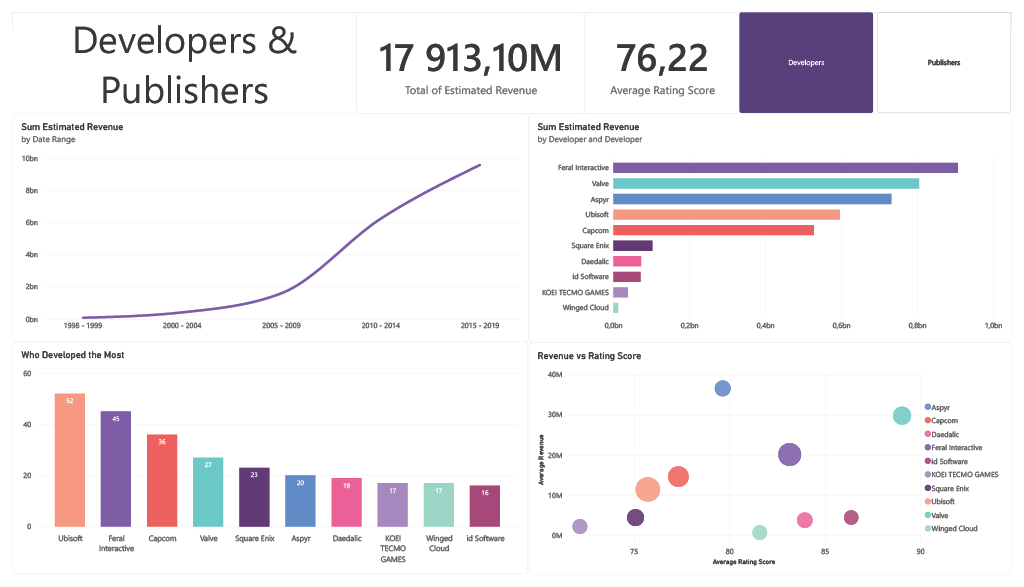

The dashboard page shown, as its layout file describes it:
{"tool":"powerbi","page":{"name":"Developers & Publishers","canvas":[1920,1080],"ordinal":2},"visuals":[{"type":"lineChart","fields":{"Category":["steam.date_range"],"Y":["Sum(steam.estimated_revenue)"]},"box":[0,194,992,440],"z":0},{"type":"textbox","box":[0,0,661.3,194],"z":1000},{"type":"barChart","fields":{"Category":["steam_developers.developer_name"],"Series":["steam_developers.developer_name"],"Y":["Sum(steam.estimated_revenue)"]},"box":[992.3,194,927.7,440],"z":1000,"group":"g1"},{"type":"columnChart","title":"Who Developed the Most","fields":{"Category":["steam_developers.developer_name"],"Series":["steam_developers.developer_name"],"Y":["CountNonNull(steam.appid)"]},"box":[0,632,991.4,447.1],"z":1000,"group":"g3"},{"type":"scatterChart","title":"Revenue vs Rating Score","fields":{"Series":["steam_developers.developer_name"],"Size":["CountNonNull(steam.appid)"],"X":["Avg(steam.rating_score)"],"Y":["Avg(steam.estimated_revenue)"]},"box":[991.5,632.4,928.7,447.3],"z":1000,"group":"g2"},{"type":"cardVisual","fields":{"Data":["Sum(steam.estimated_revenue)"]},"box":[661.4,0,438.6,194.3],"z":3000},{"type":"cardVisual","fields":{"Data":["Avg(steam.rating_score)"]},"box":[1100,0,297.1,194.3],"z":4000},{"type":"group","id":"g1","title":"Group 3","box":[992,194,928,440],"z":5000},{"type":"group","id":"g2","title":"Group 2","box":[991.5,631.5,928.5,448.5],"z":6000},{"type":"group","id":"g3","title":"Group 1","box":[0,632,991.4,447.1],"z":7000},{"type":"bookmarkNavigator","box":[1396.7,0,523.3,193.3],"z":8000}]}

Visuals, with their boxes in screenshot pixels (x1, y1, x2, y2), scaled from the page's 1920x1080 canvas onto the 1024x587 screenshot:
lineChart - steam.date_range x Sum(steam.estimated_revenue): {"left": 0, "top": 105, "right": 529, "bottom": 345}
textbox: {"left": 0, "top": 0, "right": 353, "bottom": 105}
barChart - steam_developers.developer_name x steam_developers.developer_name: {"left": 529, "top": 105, "right": 1023, "bottom": 345}
"Who Developed the Most" columnChart: {"left": 0, "top": 344, "right": 529, "bottom": 586}
"Revenue vs Rating Score" scatterChart: {"left": 529, "top": 344, "right": 1023, "bottom": 586}
cardVisual - Sum(steam.estimated_revenue): {"left": 353, "top": 0, "right": 587, "bottom": 106}
cardVisual - Avg(steam.rating_score): {"left": 587, "top": 0, "right": 745, "bottom": 106}
"Group 3" group: {"left": 529, "top": 105, "right": 1023, "bottom": 345}
"Group 2" group: {"left": 529, "top": 343, "right": 1023, "bottom": 586}
"Group 1" group: {"left": 0, "top": 344, "right": 529, "bottom": 586}
bookmarkNavigator: {"left": 745, "top": 0, "right": 1023, "bottom": 105}
